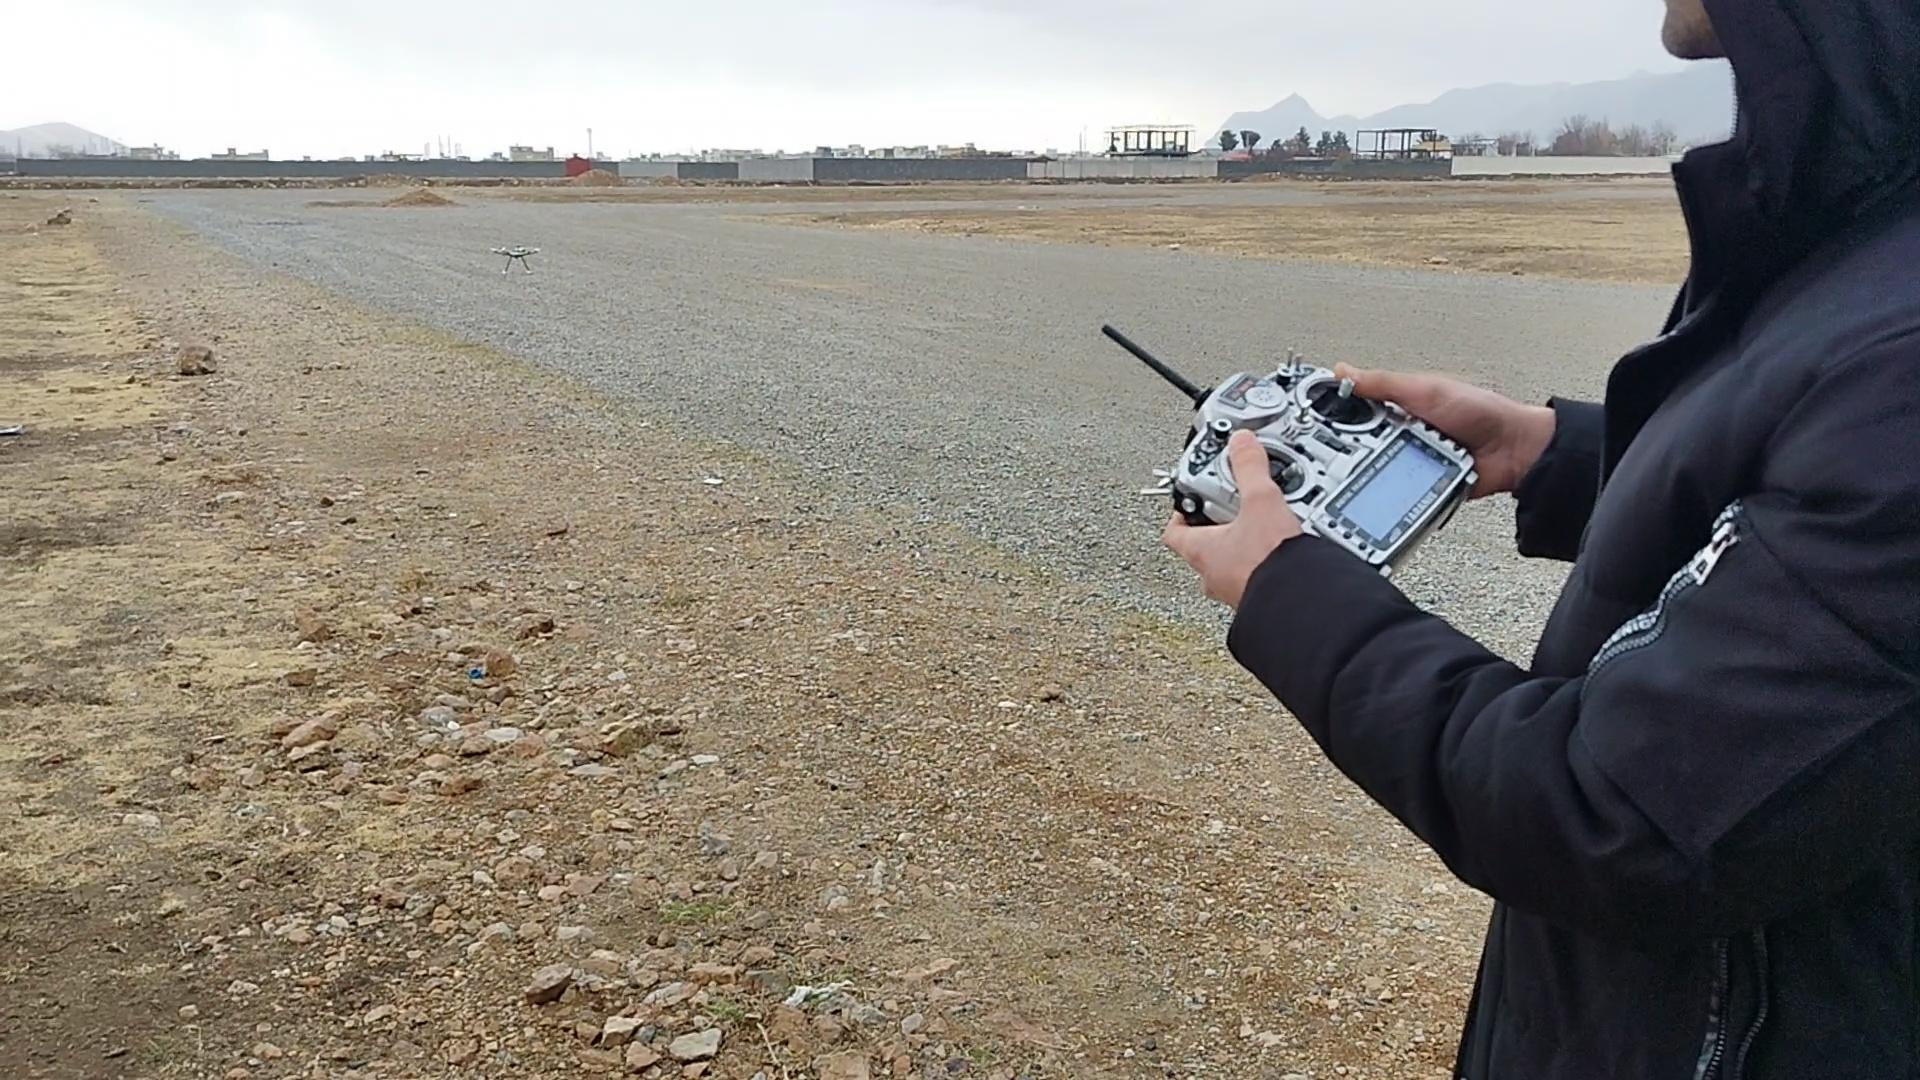drone: (487, 241, 543, 276)
